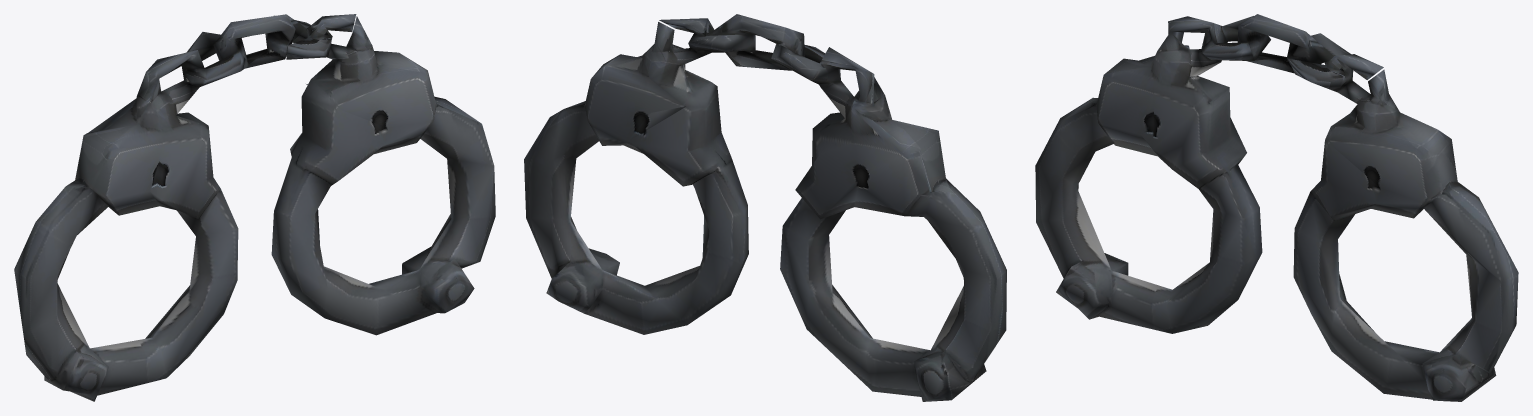
The model's file is handcuff.fbx.
3 renders of one model, left to right at view 1: azimuth 30°, elevation 25°; view 2: azimuth 150°, elevation 25°; view 3: azimuth 330°, elevation 25°, orthographic.
Visible parts, largest first — view 1: tripo_node_17c66fd8; view 2: tripo_node_17c66fd8; view 3: tripo_node_17c66fd8.
Boxes of the visible parts, x1,y1,x2,y2 form: tripo_node_17c66fd8: (14,14,495,401); tripo_node_17c66fd8: (524,14,1006,401); tripo_node_17c66fd8: (1035,14,1518,401).
Bounding box in the file's own units: 99.51 × 13.64 × 67.96.
1 material, 1 textured.
